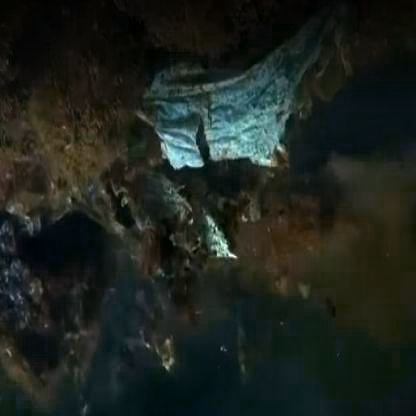plastic: (141, 89, 299, 176)
